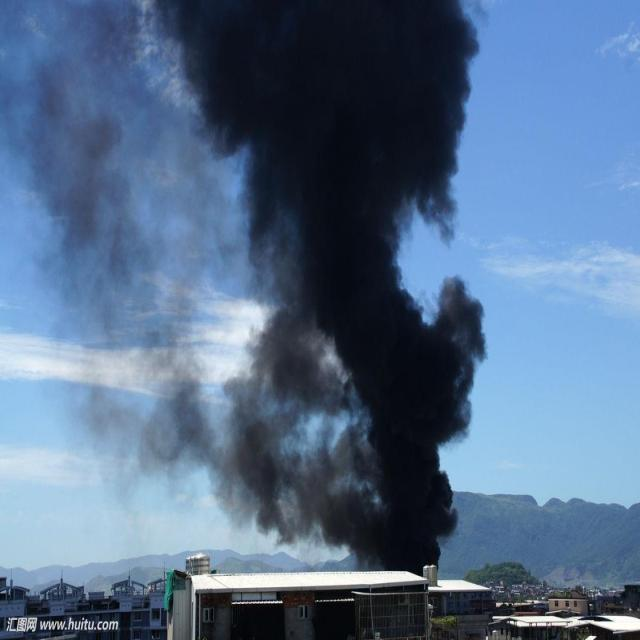Smoke: (1, 0, 490, 578)
